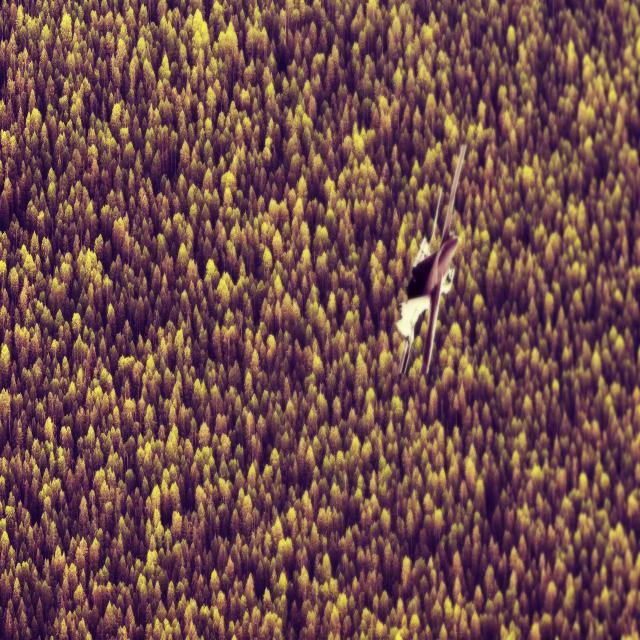airplane: (394, 142, 467, 378)
